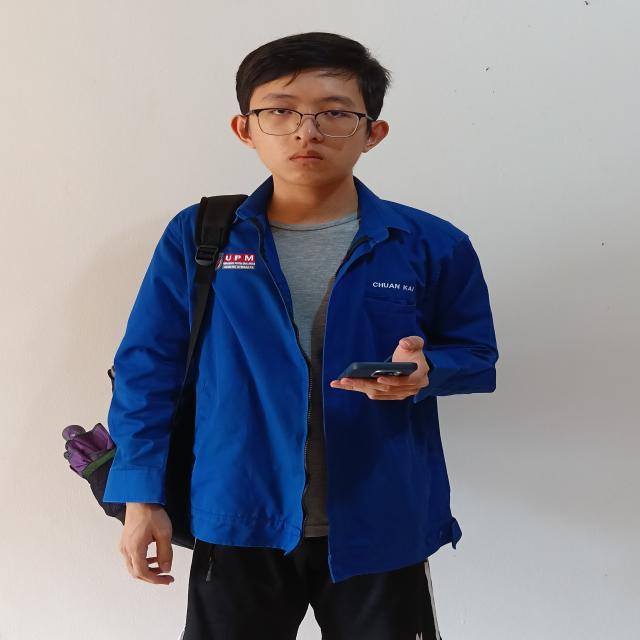person_with_labcoat: (63, 33, 498, 640)
